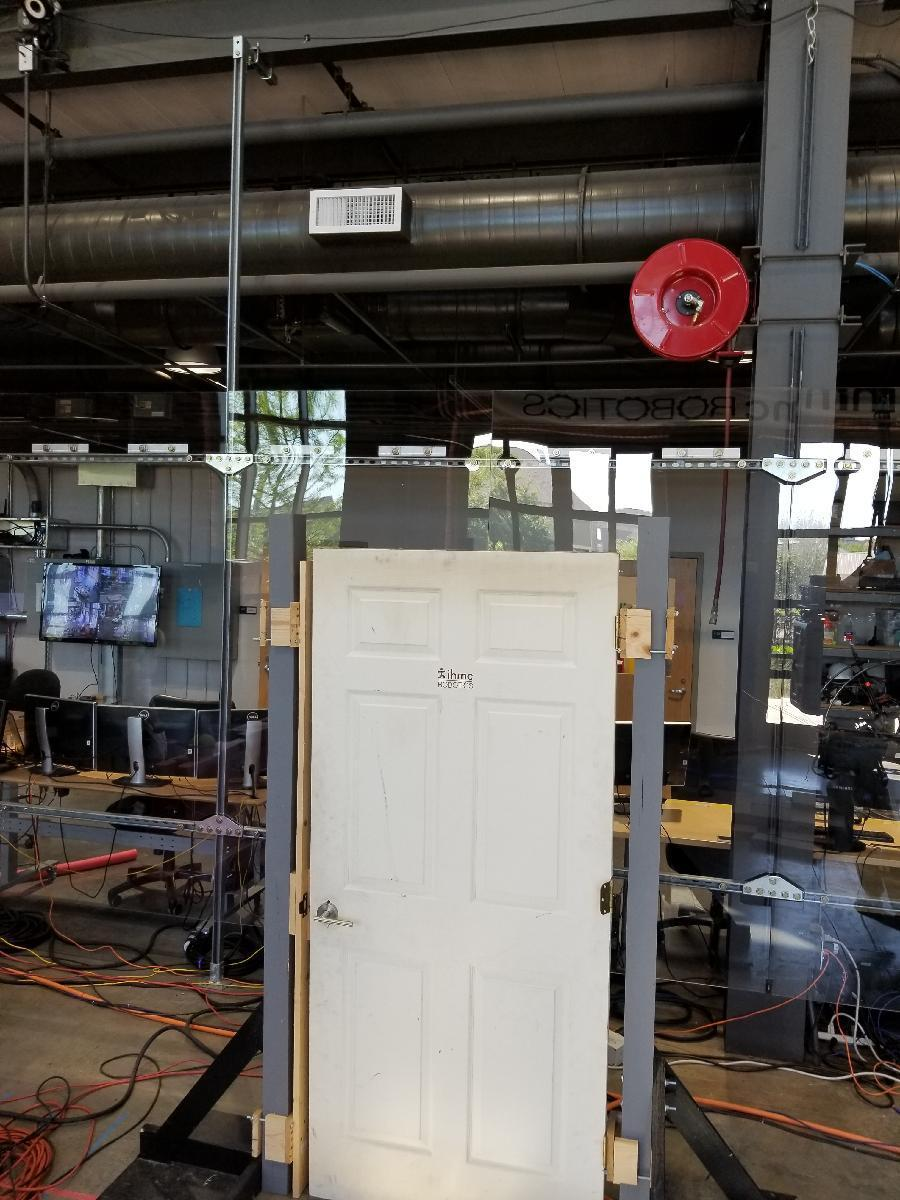door: (308, 548, 616, 1200)
handle: (310, 900, 356, 931)
